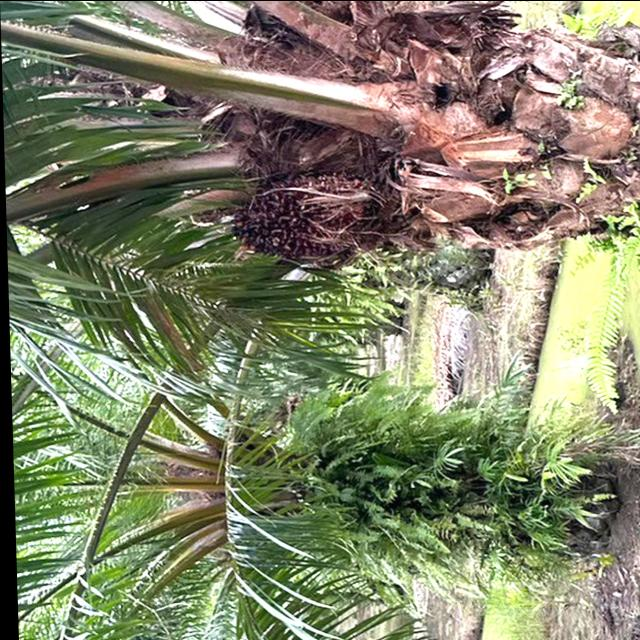ripe: (217, 175, 395, 281)
